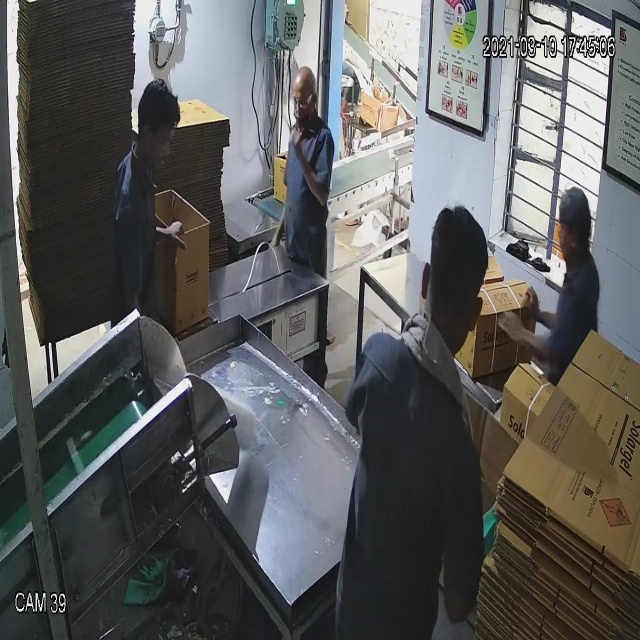Sin_guantes: (281, 120, 330, 218), (494, 286, 536, 365), (150, 208, 201, 271)
